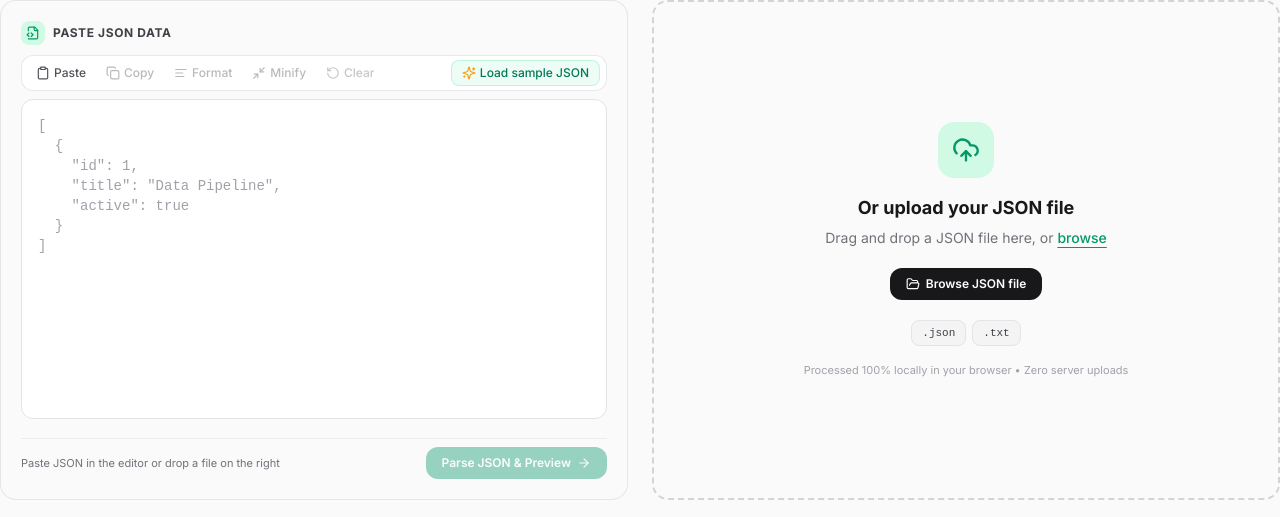
SplitJsonInput › allows clearing JSON text after typing or loading sample
The width and height of the screenshot is (1280, 517).
Click the button "Load sample JSON": x=525, y=73 [451,60,600,86]
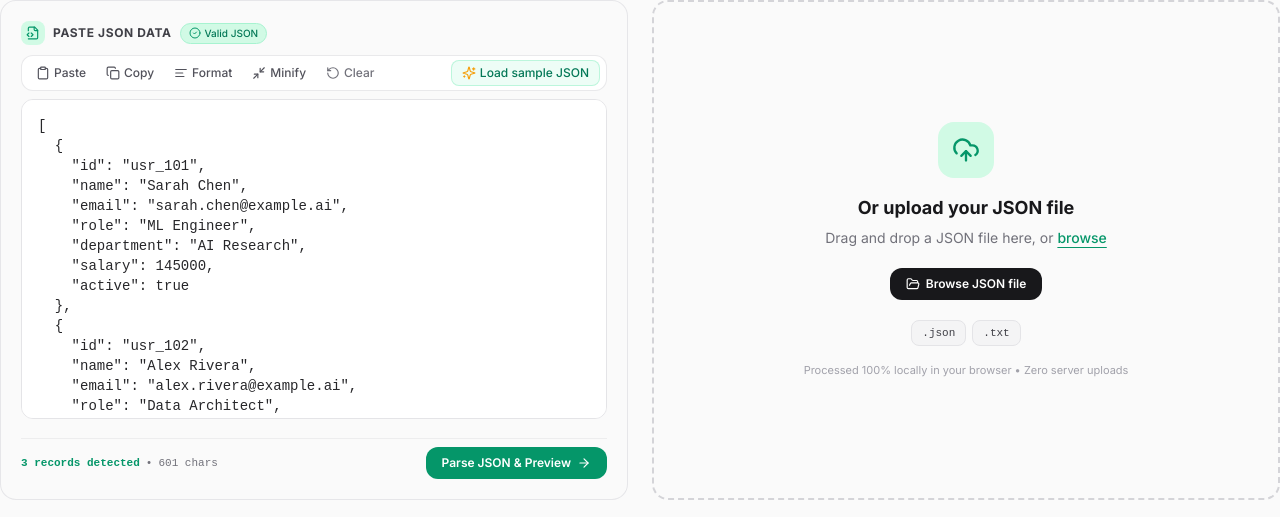
Click the button "Clear": x=350, y=73 [318,61,382,85]
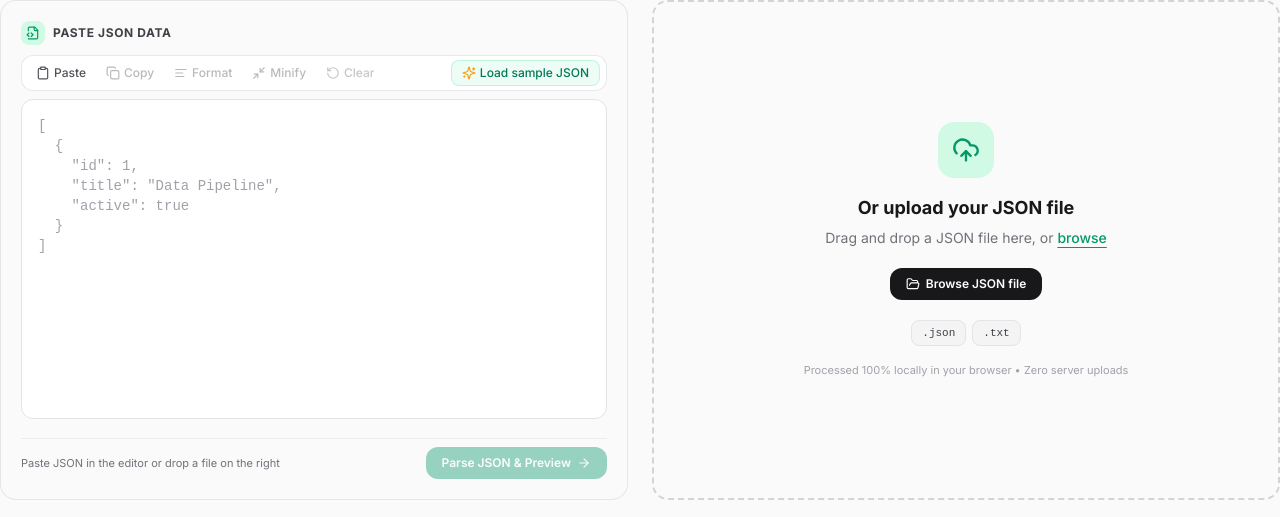
Expected: the text box named "Paste JSON data" is empty, [21,99,607,419]
